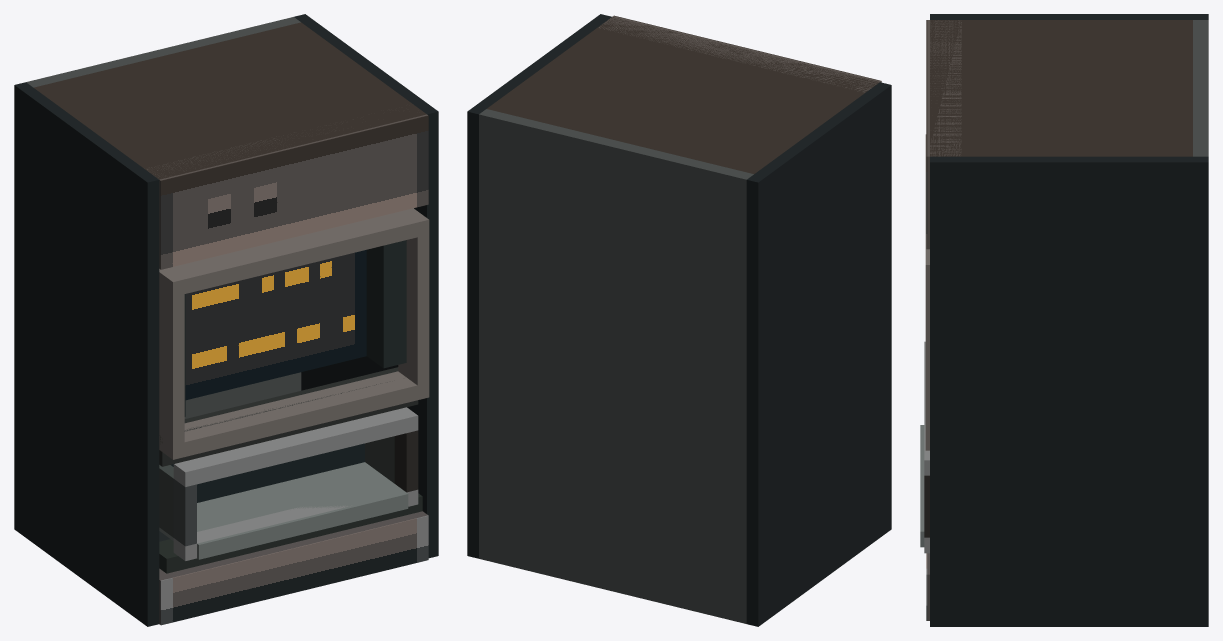
Rendered from CMU3DVendorComponentCloud.glb.
3 renders of one model, left to right at view 1: azimuth 30°, elevation 25°; view 2: azimuth 150°, elevation 25°; view 3: azimuth 270°, elevation 25°, orthographic. The views are drawn at different scales.
Parts seen in each view (by area): view 1: left full-depth cabinet wall, roof, brown upper control fascia original face, dark amber display original face, lower brown plinth original face, component collection bay floor, right full-depth cabinet wall, brown upper display surround bottom, brown upper display surround top, component collection bay rim top, upper display right recess jamb, solid rear wall (+12 smaller); view 2: solid rear wall, left full-depth cabinet wall, roof, right full-depth cabinet wall, brown upper control fascia; view 3: right full-depth cabinet wall, roof, brown upper control fascia, solid rear wall, left full-depth cabinet wall, brown upper display surround right, component collection bay floor, brown upper control fascia original face.
Boxes of the visible parts, bbox=[...] form: left full-depth cabinet wall: bbox=[14, 82, 159, 626]; roof: bbox=[34, 22, 426, 179]; brown upper control fascia original face: bbox=[160, 115, 428, 269]; dark amber display original face: bbox=[185, 250, 366, 400]; lower brown plinth original face: bbox=[160, 515, 428, 625]; component collection bay floor: bbox=[159, 462, 408, 559]; right full-depth cabinet wall: bbox=[294, 14, 438, 558]; brown upper display surround bottom: bbox=[159, 371, 429, 459]; brown upper display surround top: bbox=[159, 208, 429, 296]; component collection bay rim top: bbox=[173, 407, 418, 486]; upper display right recess jamb: bbox=[366, 240, 406, 368]; solid rear wall: bbox=[26, 17, 301, 418]; solid rear wall: bbox=[479, 109, 753, 623]; left full-depth cabinet wall: bbox=[746, 82, 891, 626]; roof: bbox=[487, 17, 879, 173]; right full-depth cabinet wall: bbox=[467, 14, 611, 558]; brown upper control fascia: bbox=[599, 16, 881, 92]; right full-depth cabinet wall: bbox=[930, 156, 1208, 626]; roof: bbox=[930, 20, 1192, 156]; brown upper control fascia: bbox=[927, 20, 961, 249]; solid rear wall: bbox=[1193, 20, 1208, 156]; left full-depth cabinet wall: bbox=[930, 14, 1208, 19]; brown upper display surround right: bbox=[925, 280, 929, 435]; component collection bay floor: bbox=[920, 425, 924, 547]; brown upper control fascia original face: bbox=[926, 20, 927, 249].
Size of the model in its own units: 0.7812 by 1.14 by 0.642.
22 materials, 3 textured.
